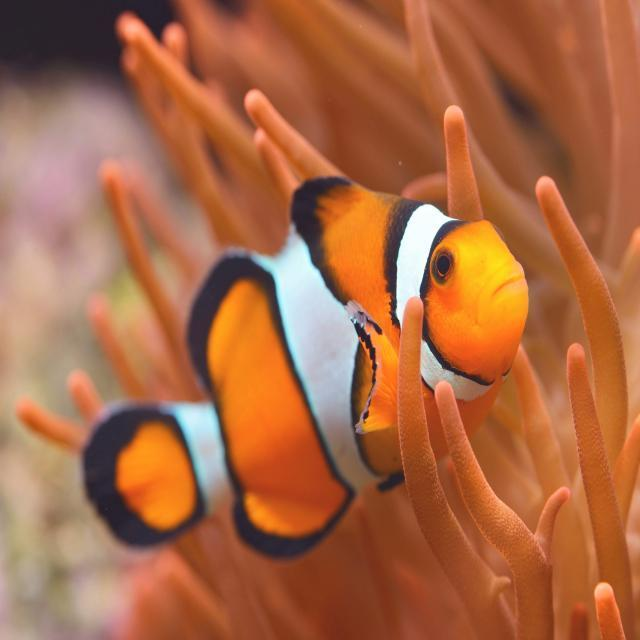ClownFish: (83, 173, 530, 556)
